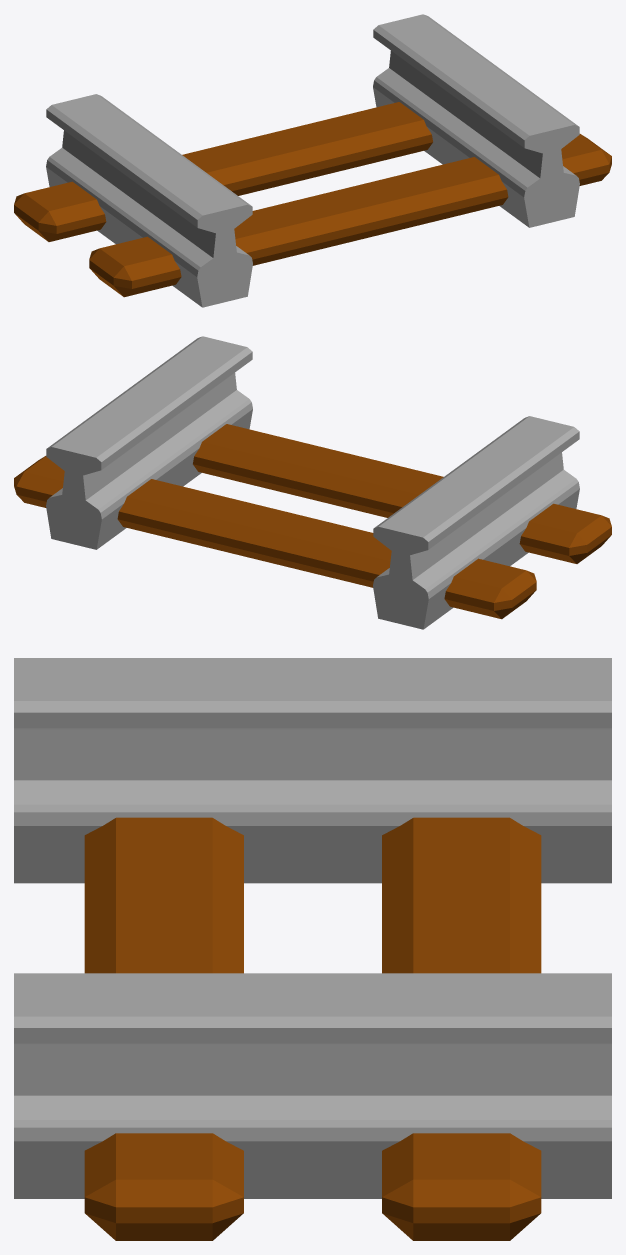
The model's file is Ray2.fbx.
The picture shows the model from 3 angles, top to bottom: view 1: azimuth 30°, elevation 25°; view 2: azimuth 150°, elevation 25°; view 3: azimuth 270°, elevation 25°; orthographic projection. The views are drawn at different scales.
Parts seen in each view (by area): view 1: Railroad11; view 2: Railroad11; view 3: Railroad11.
Part boxes in pixels (x1,y1,x2,y2): Railroad11: (14,14,611,307); Railroad11: (14,336,611,629); Railroad11: (14,658,611,1240).
Size of the model in its own units: 1.03 by 0.1816 by 0.5409.
